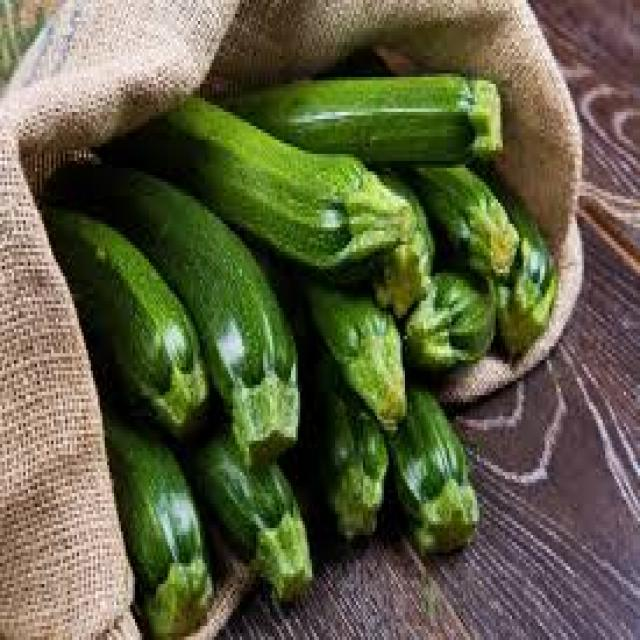Zucchini: (251, 81, 509, 163)
